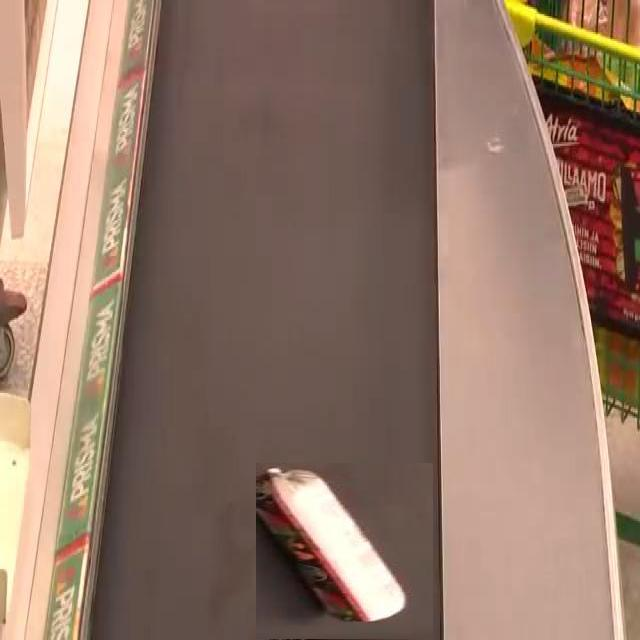food-box: (256, 462, 433, 640)
